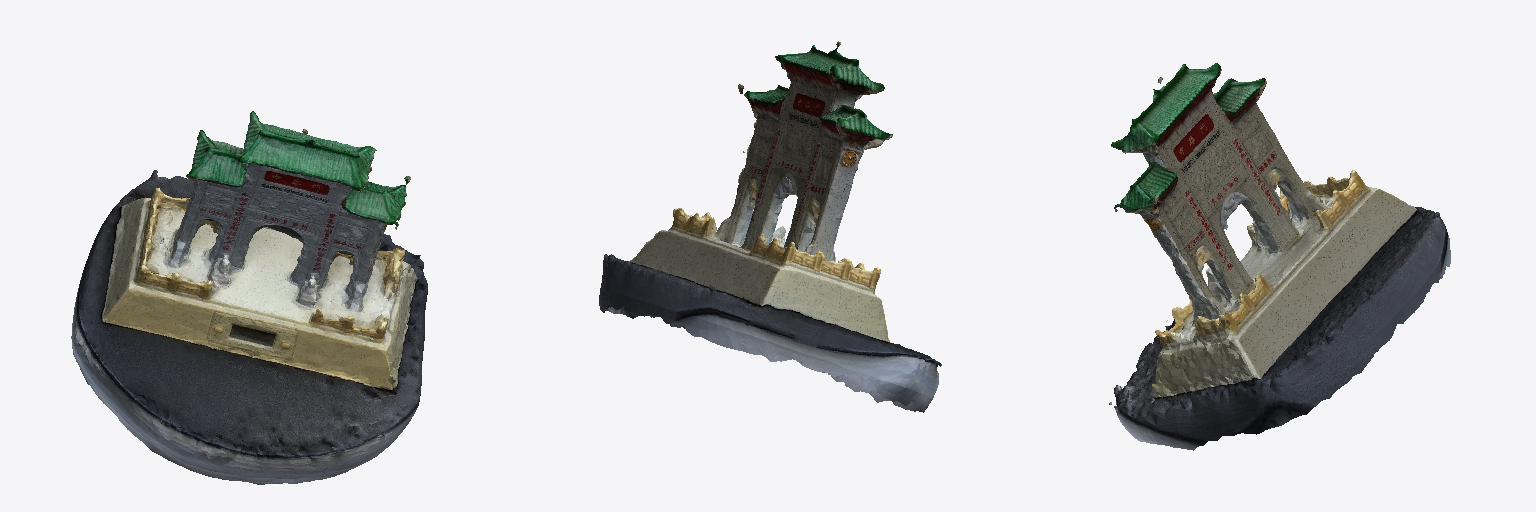
The picture shows the model from 3 angles: view 1: azimuth 30°, elevation 25°; view 2: azimuth 150°, elevation 25°; view 3: azimuth 270°, elevation 25°; orthographic projection.
Size of the model in its own units: 2.9 by 2.95 by 2.6.
1 materials, 1 textured.